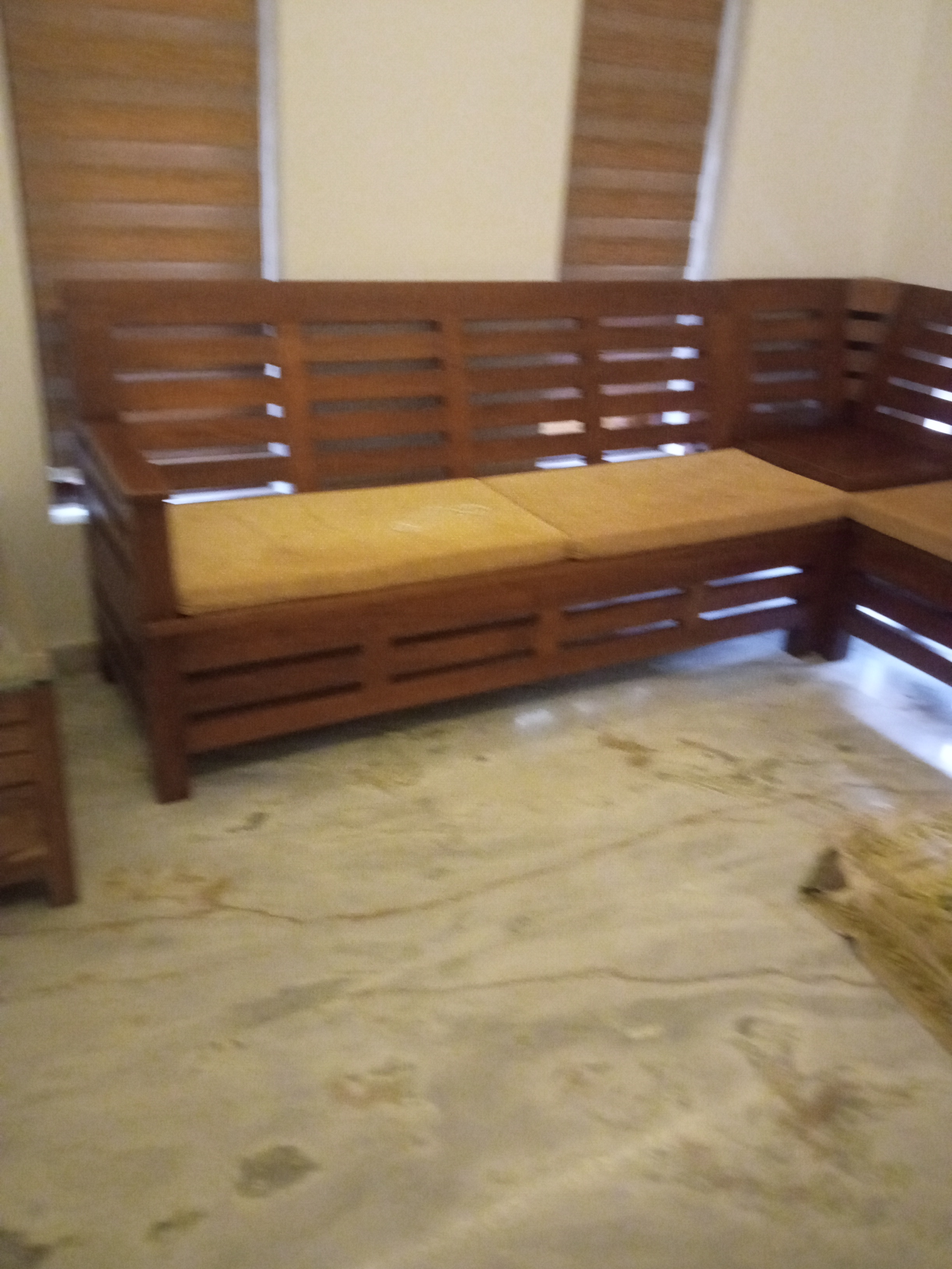sofa: (59, 269, 952, 807)
